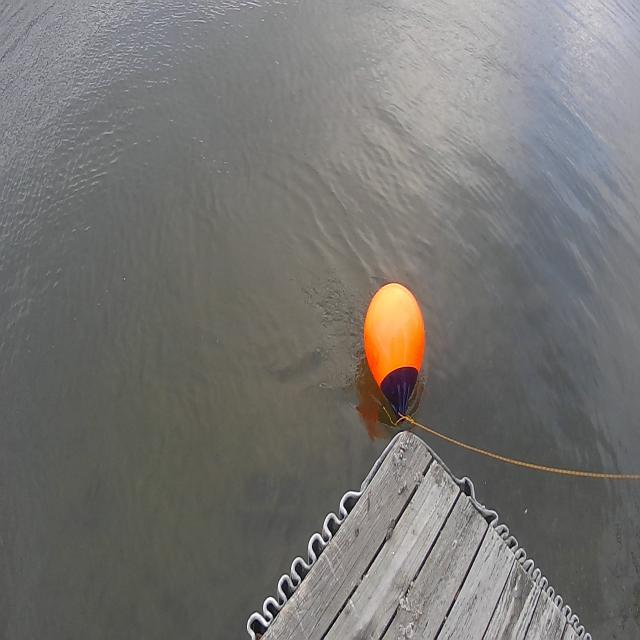Buoy: (358, 262, 433, 438)
